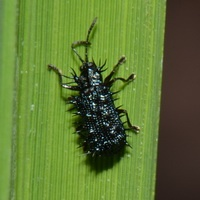insect: (48, 18, 139, 156)
